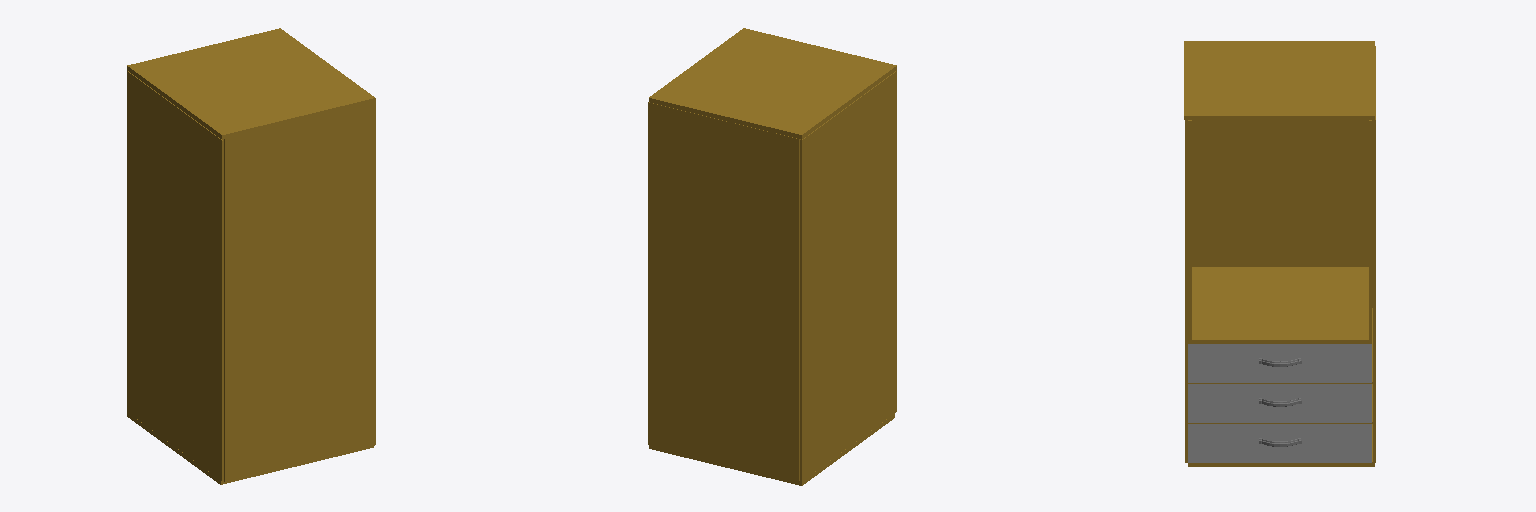
The model's file is wrldfurfre.obj.
3 views of the same model, side by side, from view 1: azimuth 30°, elevation 25°; view 2: azimuth 150°, elevation 25°; view 3: azimuth 270°, elevation 25° (orthographic).
Visible parts, largest first — view 1: Cube.001, Cube.006, Cube; view 2: Cube.001, Cube.006, Cube; view 3: Cube.006, Cube, Cube.004, Cube.027_Cube.031, Cube.026_Cube.030, Cube.002, Cube.001, Cube.003.
Boxes of the visible parts, box(x1,y1,x2,y2) form: Cube.001: box(224, 103, 375, 481); Cube.006: box(127, 71, 223, 481); Cube: box(127, 28, 375, 484); Cube.001: box(648, 102, 800, 481); Cube.006: box(800, 71, 896, 480); Cube: box(649, 28, 896, 485); Cube.006: box(1192, 120, 1372, 307); Cube: box(1184, 41, 1374, 466); Cube.004: box(1192, 267, 1368, 343); Cube.027_Cube.031: box(1188, 424, 1371, 462); Cube.026_Cube.030: box(1188, 384, 1371, 422); Cube.002: box(1188, 344, 1371, 382); Cube.001: box(1185, 46, 1375, 462); Cube.003: box(1188, 120, 1371, 343).
Bounding box in the file's own units: 4 × 8.24 × 4.07.